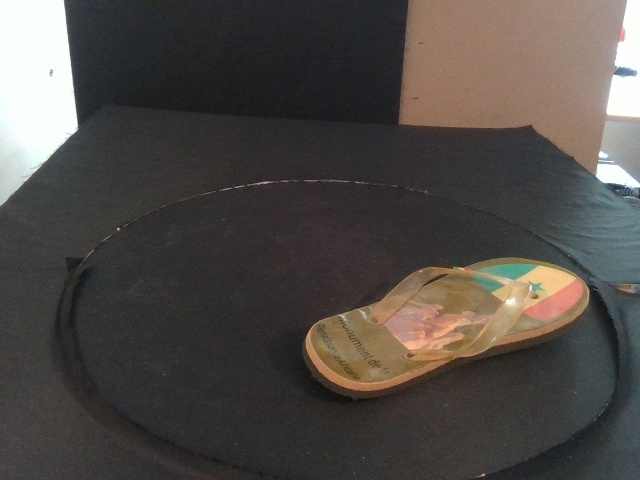shoe: (303, 256, 592, 399)
